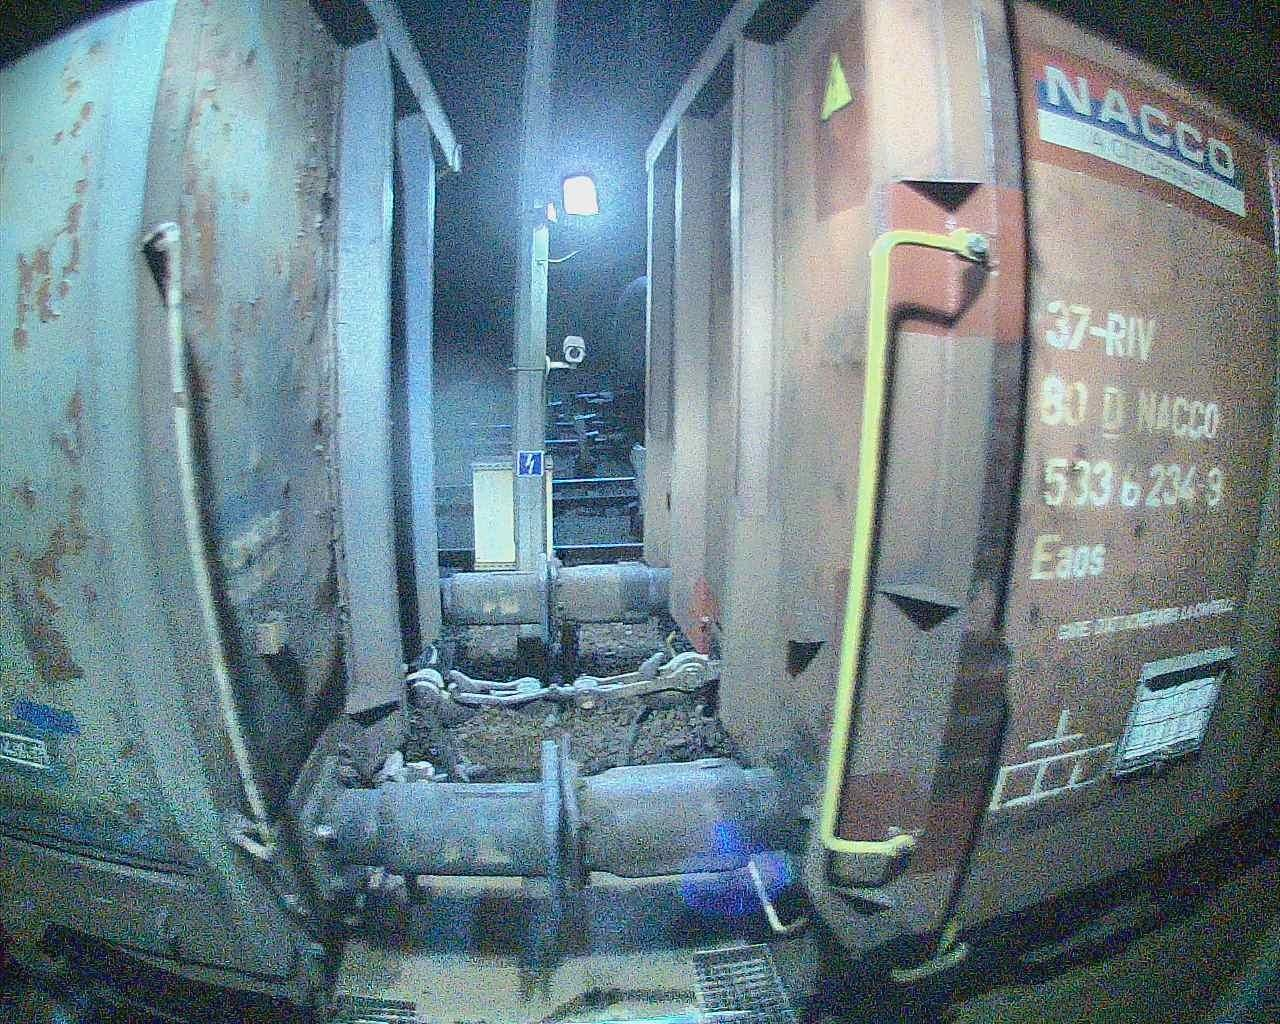UIC: (1028, 297, 1229, 591)
